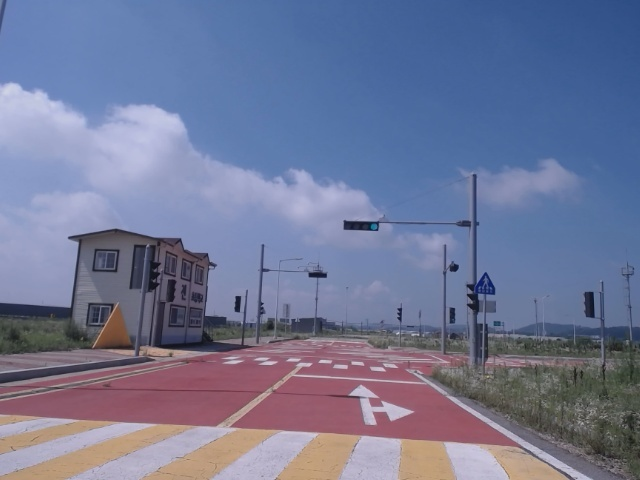straight_green_4: (344, 222, 379, 231)
